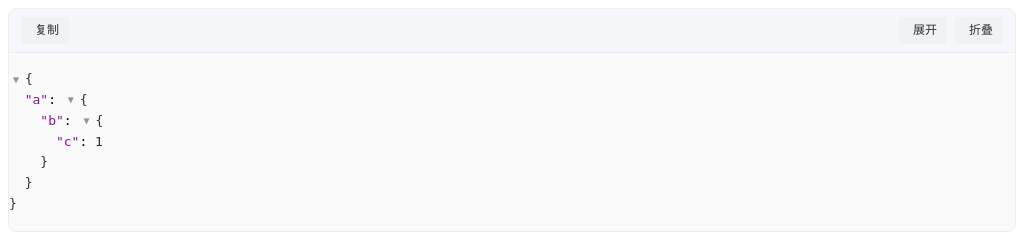
Scenario: JsonViewer 组件 › 折叠按钮折叠嵌套节点
Click the element with class "easy-json-viewer__btn" showing "折叠".
click(979, 31)  # box [955,17,1003,44]
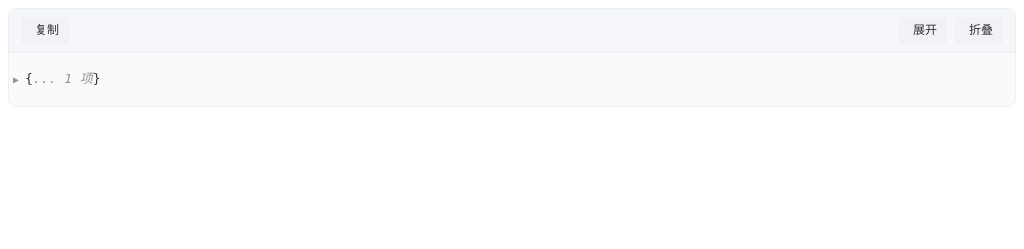
Result: the text "\"c\"" is gone
